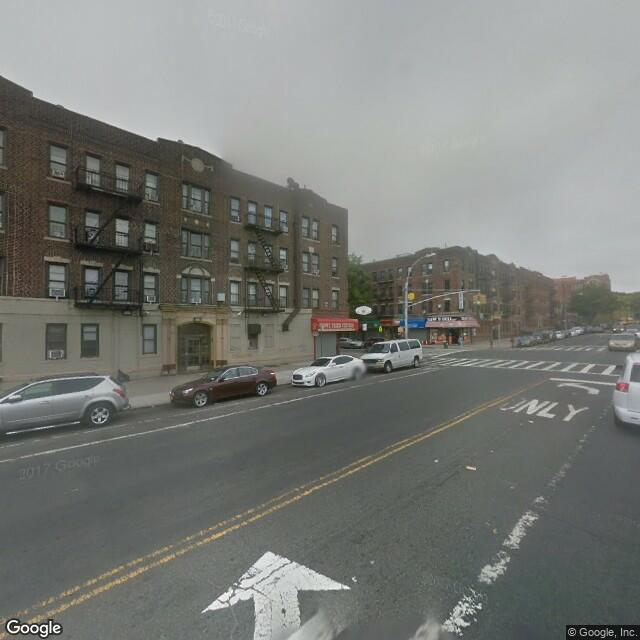litter: (527, 415, 538, 425), (349, 575, 359, 585), (467, 463, 478, 472), (430, 456, 440, 464), (369, 557, 375, 567)
